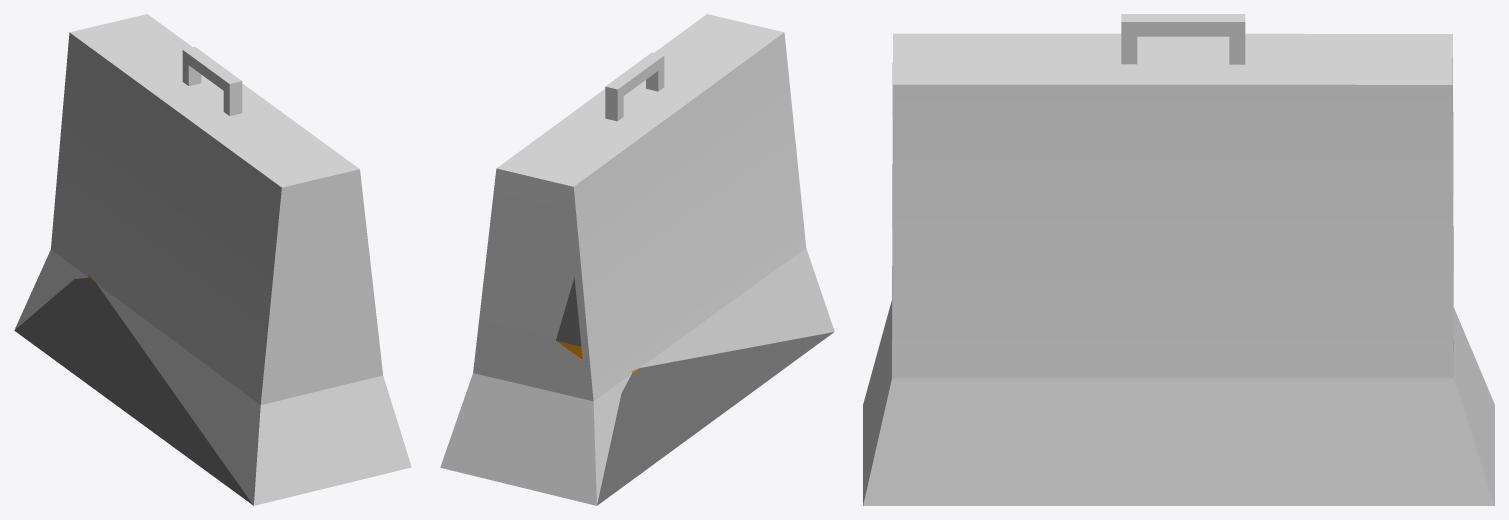
Rendered from model_road_barrier_04.fbx.
The picture shows the model from 3 angles, left to right: view 1: azimuth 30°, elevation 25°; view 2: azimuth 150°, elevation 25°; view 3: azimuth 270°, elevation 25°; orthographic projection. The views are drawn at different scales.
Visible parts, largest first — view 1: model_road_barrier_04_col, model_road_barrier_04; view 2: model_road_barrier_04_col, model_road_barrier_04; view 3: model_road_barrier_04_col.
Boxes of the visible parts, <box> form: model_road_barrier_04_col: <box>14,14,411,505</box>; model_road_barrier_04: <box>14,275,253,505</box>; model_road_barrier_04_col: <box>440,14,834,505</box>; model_road_barrier_04: <box>556,277,833,505</box>; model_road_barrier_04_col: <box>863,14,1494,505</box>.
Size of the model in its own units: 55.16 by 111 by 145.
2 materials, 1 textured.
